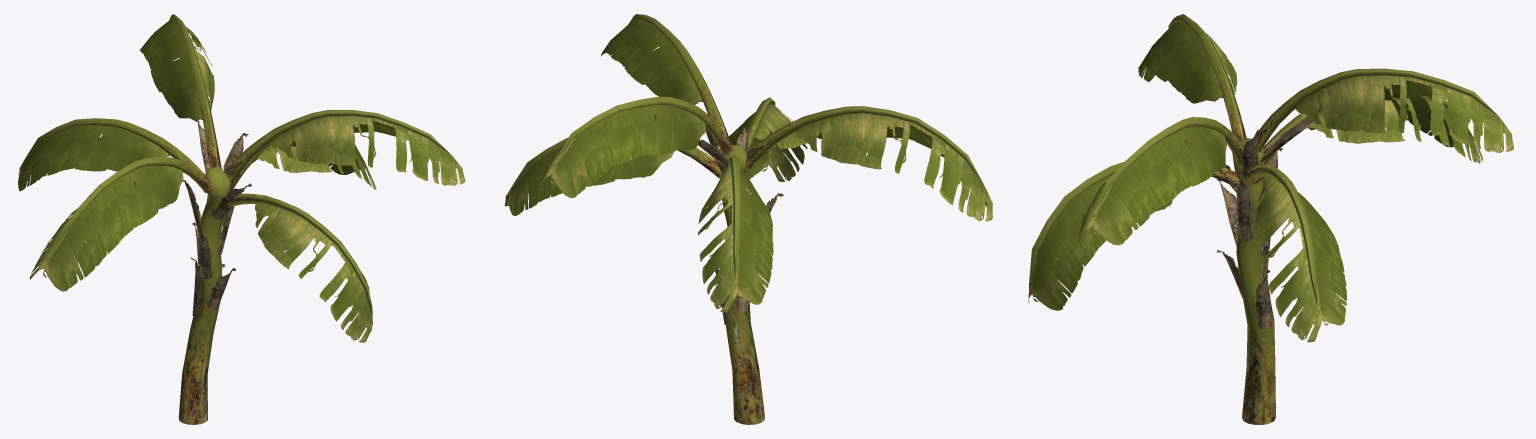
The model's file is Bananatree.fbx.
3 renders of one model, left to right at view 1: azimuth 30°, elevation 25°; view 2: azimuth 150°, elevation 25°; view 3: azimuth 270°, elevation 25°, orthographic. The views are drawn at different scales.
Parts seen in each view (by area): view 1: banana leaf 03_1, stem 01_0, bark peel_2; view 2: banana leaf 03_1, stem 01_0, bark peel_2; view 3: banana leaf 03_1, stem 01_0, bark peel_2.
Boxes of the visible parts, left/top/right/bottom form: banana leaf 03_1: left=18, top=18, right=465, bottom=342; stem 01_0: left=26, top=14, right=450, bottom=424; bark peel_2: left=182, top=121, right=251, bottom=317; banana leaf 03_1: left=504, top=19, right=992, bottom=312; stem 01_0: left=513, top=14, right=983, bottom=424; bark peel_2: left=697, top=127, right=783, bottom=325; banana leaf 03_1: left=1028, top=21, right=1513, bottom=342; stem 01_0: left=1029, top=14, right=1499, bottom=424; bark peel_2: left=1216, top=119, right=1317, bottom=329.
Size of the model in its own units: 178 by 138 by 163.
3 materials, 3 textured.
